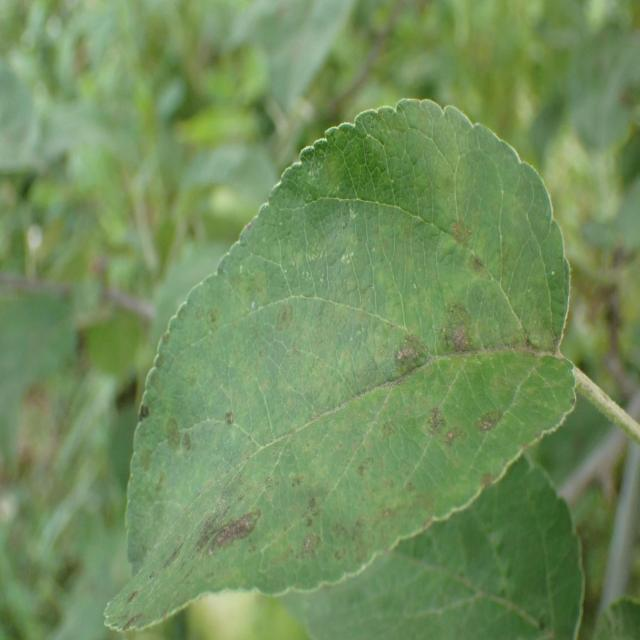scab: (109, 150, 566, 626)
